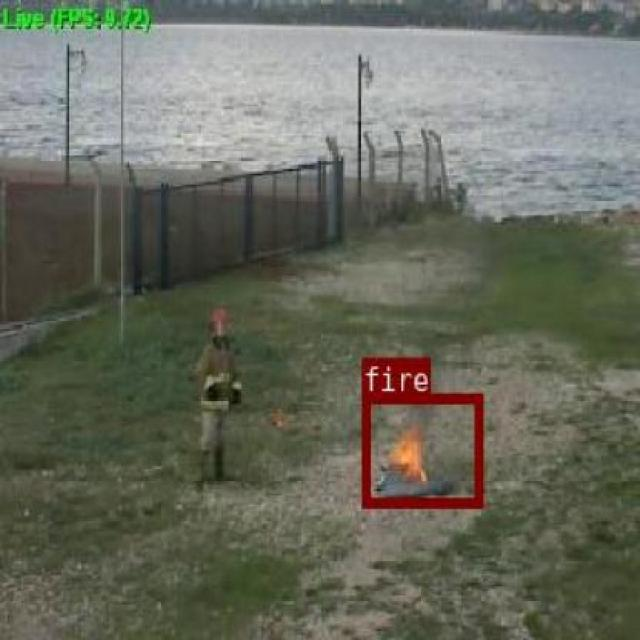Fire: (362, 392, 480, 506)
